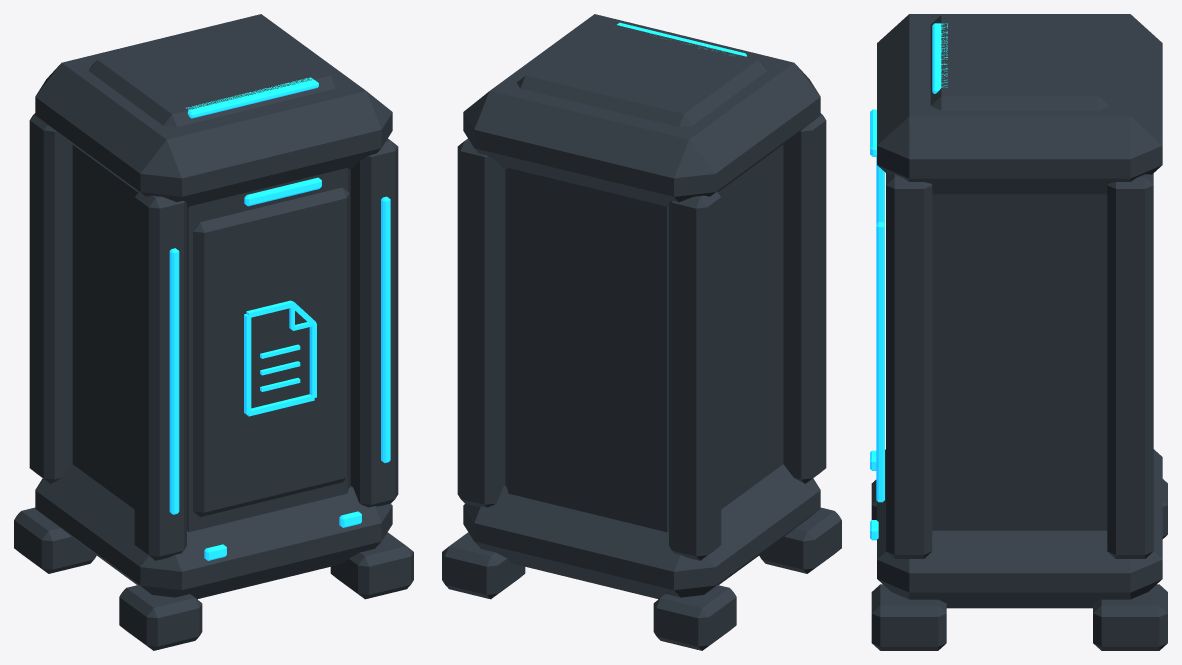
Rendered from PaperRecycleStation_Final.fbx.
3 renders of one model, left to right at view 1: azimuth 30°, elevation 25°; view 2: azimuth 150°, elevation 25°; view 3: azimuth 270°, elevation 25°, orthographic. The views are drawn at different scales.
Parts seen in each view (by area): view 1: PaperRecycleStation_Final; view 2: PaperRecycleStation_Final; view 3: PaperRecycleStation_Final.
Part boxes in pixels (left/top/right/bottom): PaperRecycleStation_Final: left=14, top=14, right=413, bottom=650; PaperRecycleStation_Final: left=442, top=14, right=841, bottom=650; PaperRecycleStation_Final: left=870, top=14, right=1167, bottom=650.
Size of the model in its own units: 0.455 by 0.82 by 0.4175.
